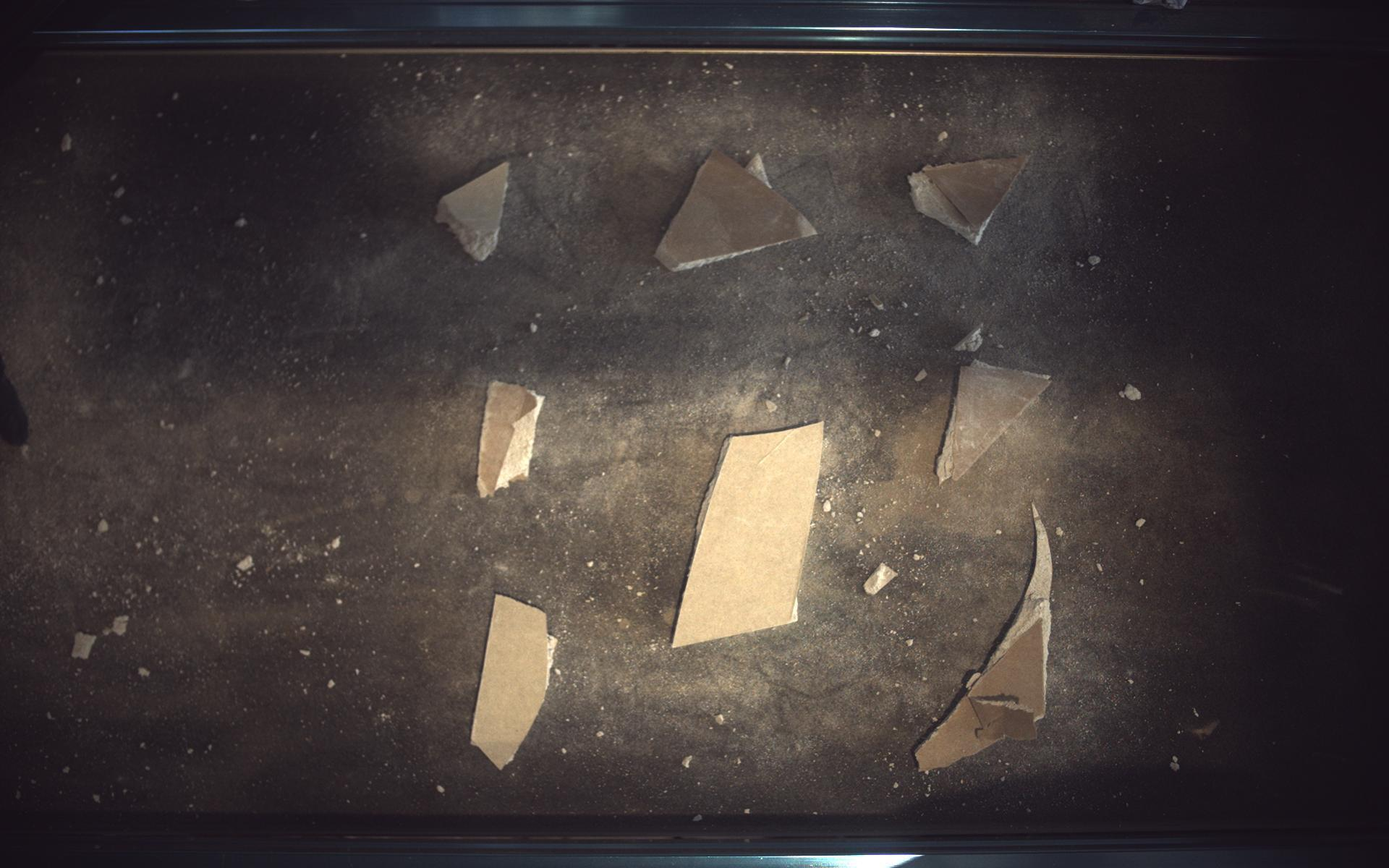gypsum_board: (918, 505, 1055, 773), (673, 422, 825, 648), (656, 148, 817, 271), (938, 360, 1053, 484), (471, 595, 551, 770), (911, 155, 1029, 244), (477, 380, 545, 497), (436, 161, 510, 261)
